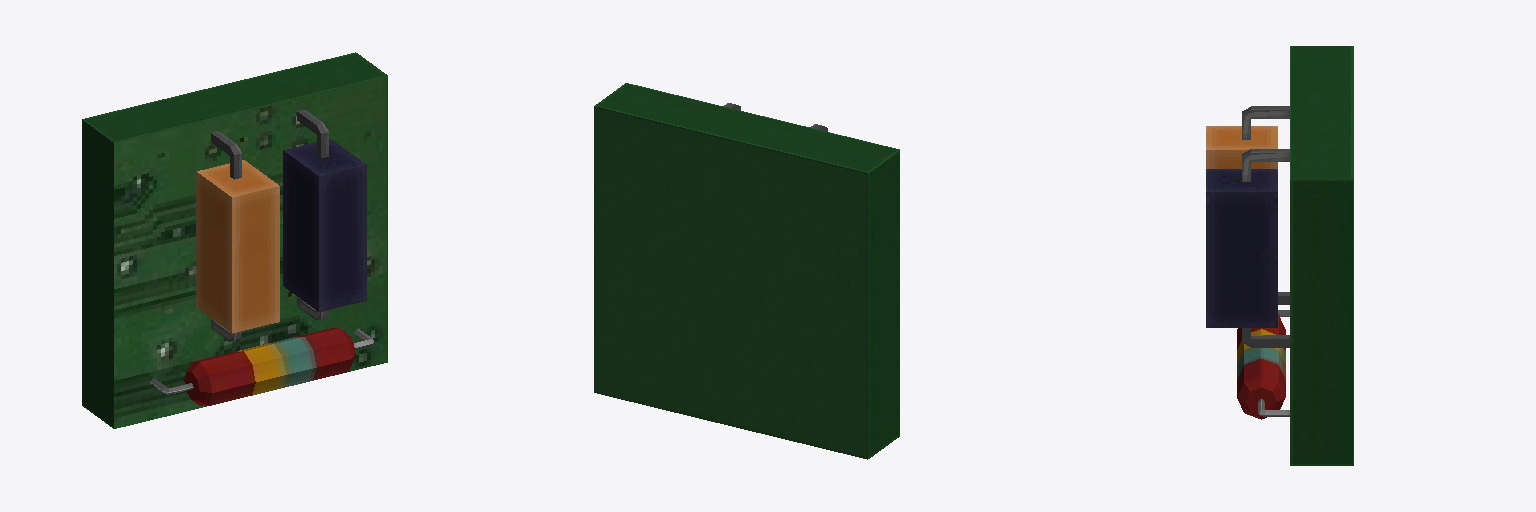
3 views of the same model, side by side, from view 1: azimuth 30°, elevation 25°; view 2: azimuth 150°, elevation 25°; view 3: azimuth 270°, elevation 25° (orthographic).
Parts seen in each view (by area): view 1: Object10; view 2: Object10; view 3: Object10.
Boxes of the visible parts, <box> form: Object10: <box>82,52,387,428</box>; Object10: <box>594,83,899,459</box>; Object10: <box>1206,46,1353,465</box>.
Size of the model in its own units: 20.04 by 20.04 by 9.33.
1 materials, 1 textured.